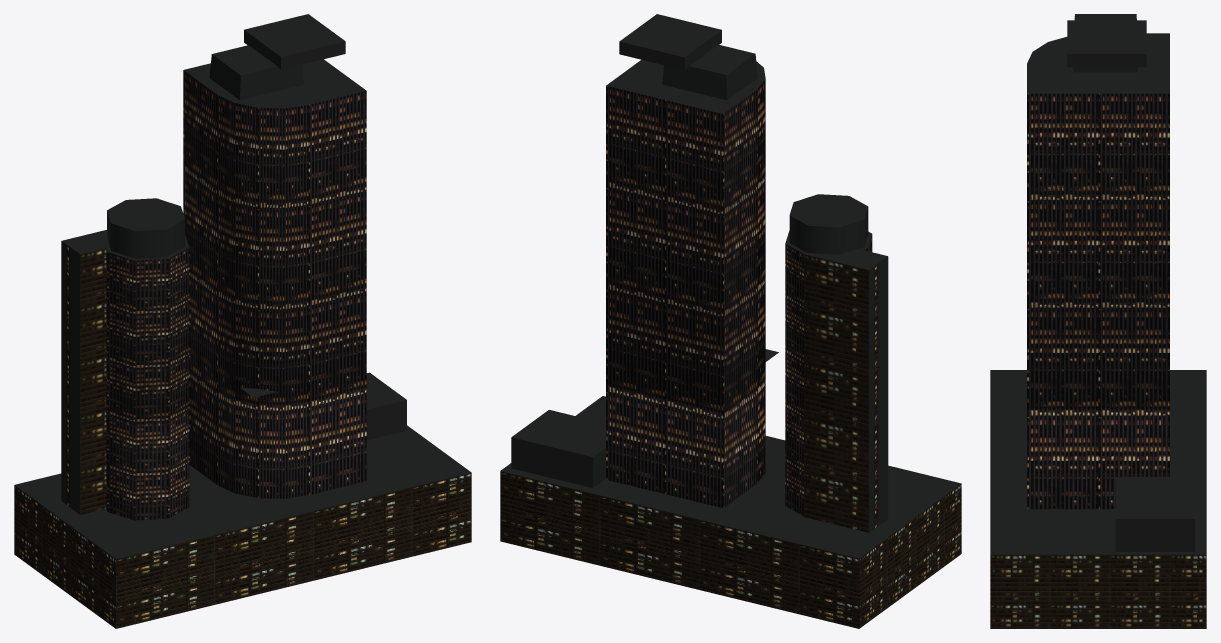
File: NANA_VS_SURU.glb
3 views of the same model, side by side, from view 1: azimuth 30°, elevation 25°; view 2: azimuth 150°, elevation 25°; view 3: azimuth 270°, elevation 25° (orthographic). The views are drawn at different scales.
Visible parts, largest first — view 1: obj41, BASE, obj38, obj5, obj18; view 2: obj41, BASE, obj38, obj5, obj18; view 3: obj41, BASE, obj5.
Part boxes in pixels (x1,y1,x2,y2): obj41: (183, 14, 366, 404); BASE: (14, 372, 471, 628); obj38: (61, 198, 189, 425); obj5: (189, 370, 366, 498); obj18: (61, 407, 189, 520); obj41: (606, 14, 765, 412); BASE: (500, 396, 961, 628); obj38: (785, 194, 888, 437); obj5: (606, 378, 765, 508); obj18: (785, 411, 888, 532); obj41: (1027, 14, 1169, 408); BASE: (990, 370, 1206, 628); obj5: (1027, 408, 1169, 509).
Size of the model in its own units: 276 by 368 by 136.
42 materials, 42 textured.
